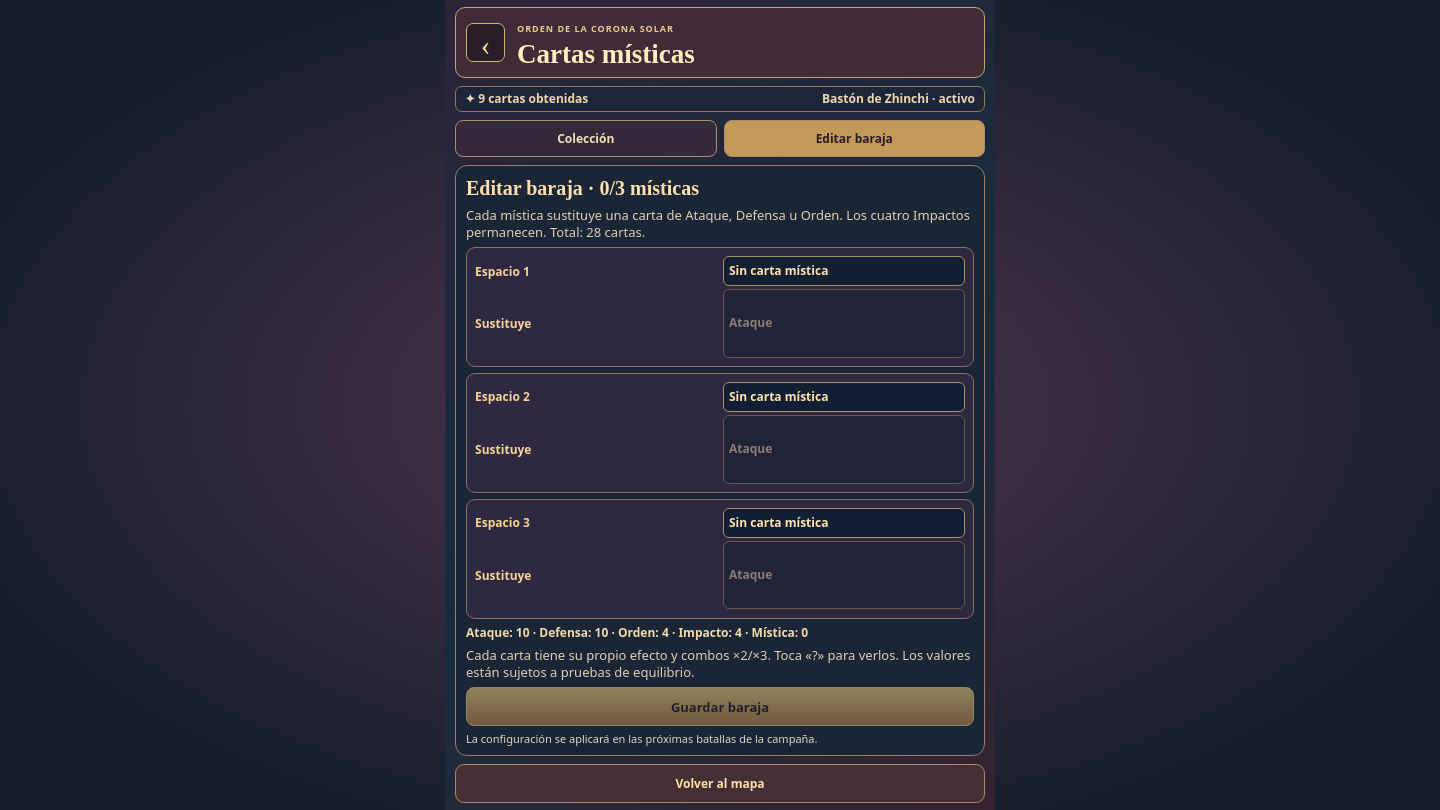
Test: el bastón desbloquea editor, limita tres espacios y guarda elecciones
Earlier steps of the test are not shown.
Expected: the heading "Editar baraja · 0/3 místicas" is shown, [466, 177, 699, 199]
Select "Marea de Hierro" in the dropdown labelled "Espacio 1" at (844, 271), box [723, 256, 965, 286]
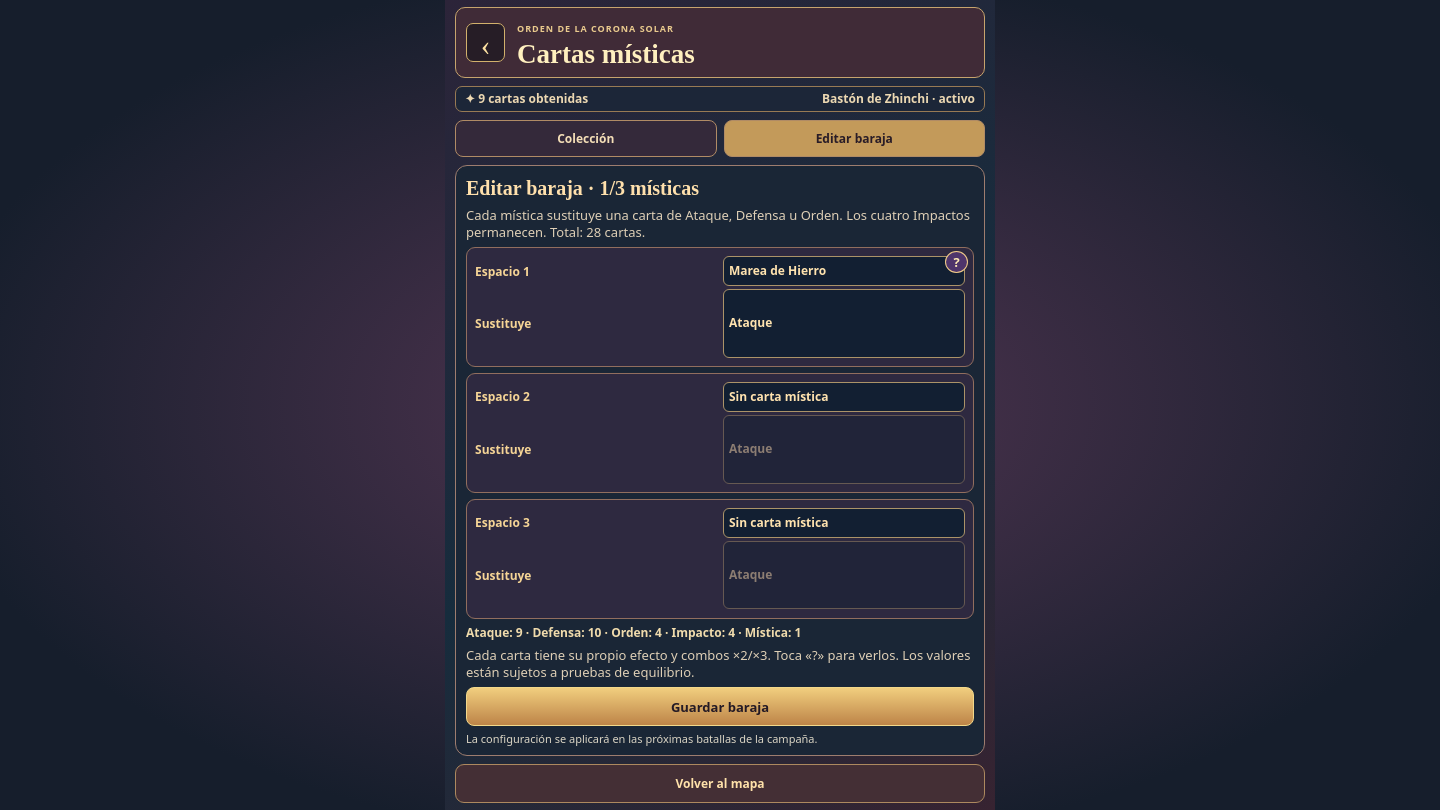
Click the button named "Ver efectos de Marea de Hierro" at (956, 262), box [945, 251, 968, 273]
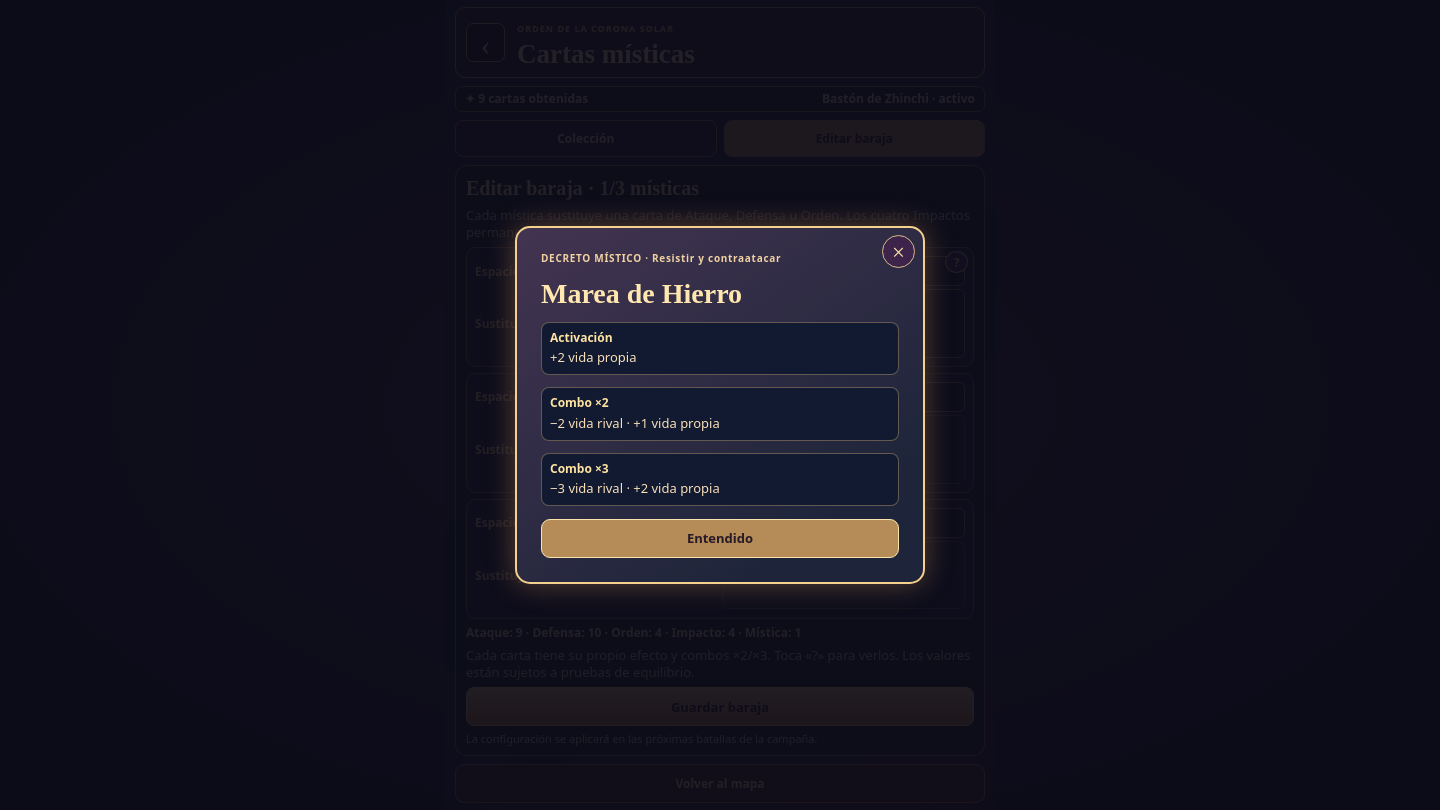
Result: the heading "Marea de Hierro" is shown at [541, 278, 742, 308]
Click the button "Entendido" at (720, 538), box [541, 519, 899, 558]
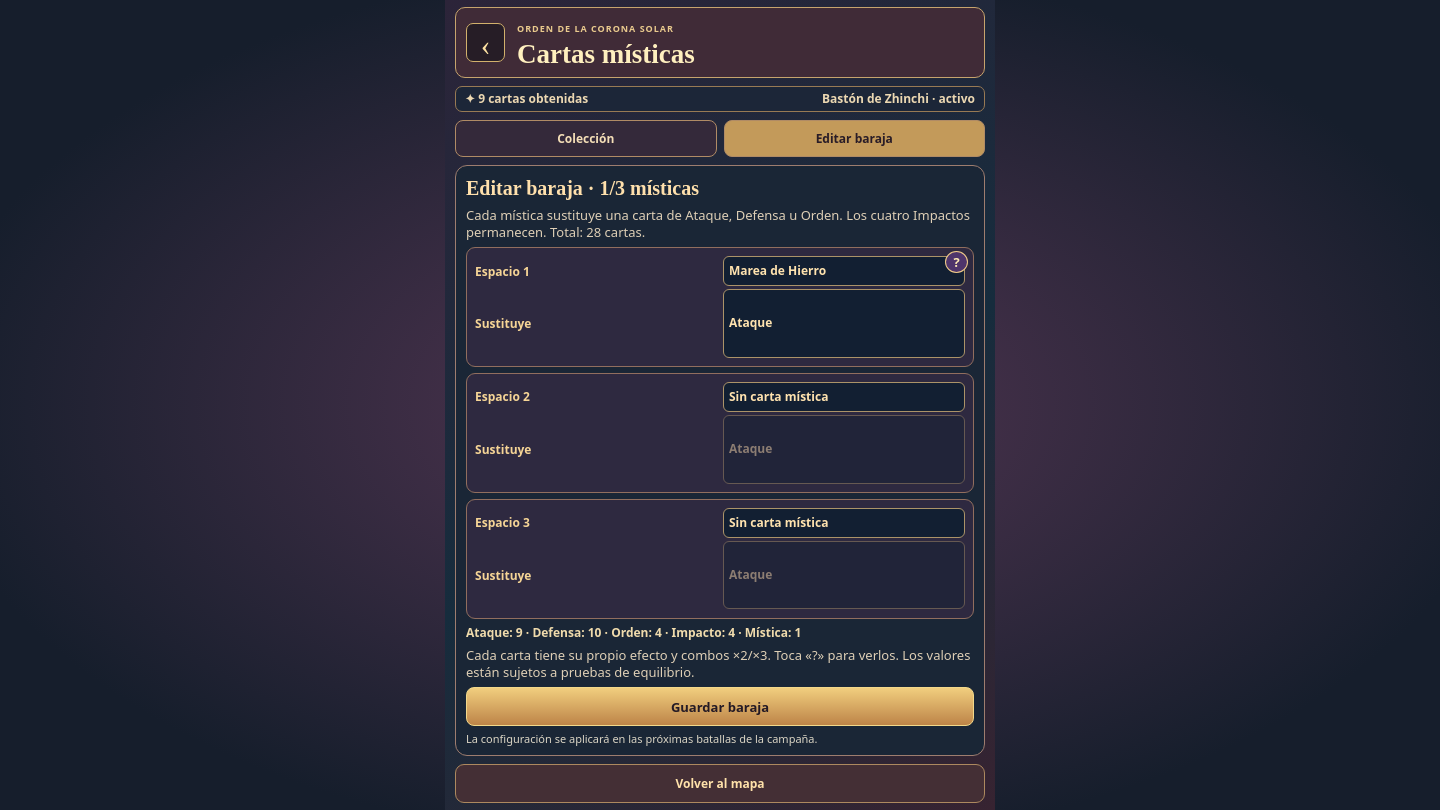
Select "Defensa" in the dropdown with id "mystic-replace-0" at (844, 324), box [723, 289, 965, 358]
Select "Carga Sangrante" in the dropdown labelled "Espacio 2" at (844, 397), box [723, 382, 965, 412]
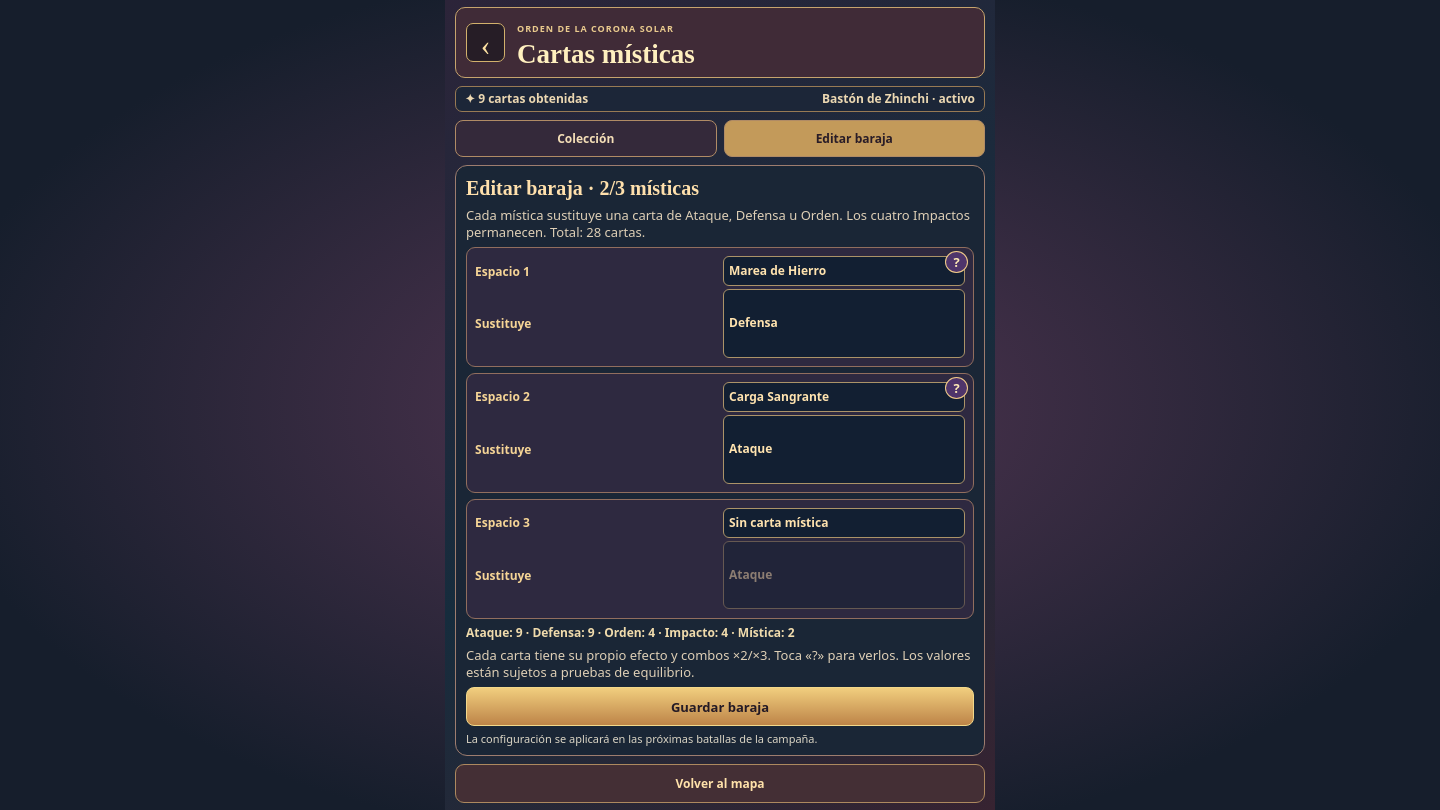
Select "Decreto del Legado" in the dropdown labelled "Espacio 3" at (844, 523), box [723, 508, 965, 538]
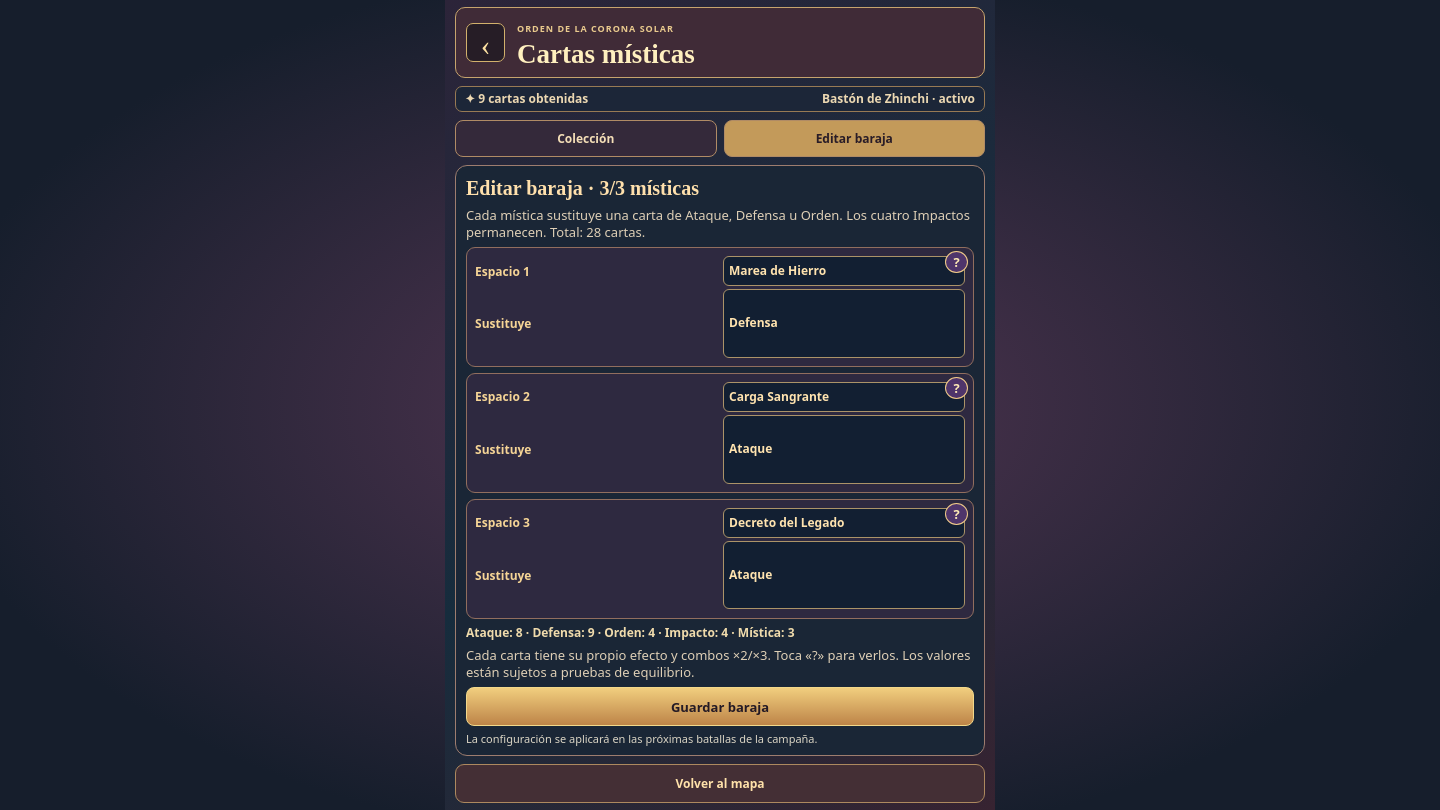
Result: the text "Ataque: 8 · Defensa: 9 · Orden: 4 · Impacto: 4 · Mística: 3" is shown at [466, 624, 794, 641]
Result: the heading "Editar baraja · 3/3 místicas" is shown at [466, 177, 699, 199]
Click the button "Guardar baraja" at (720, 707), box [466, 687, 974, 726]
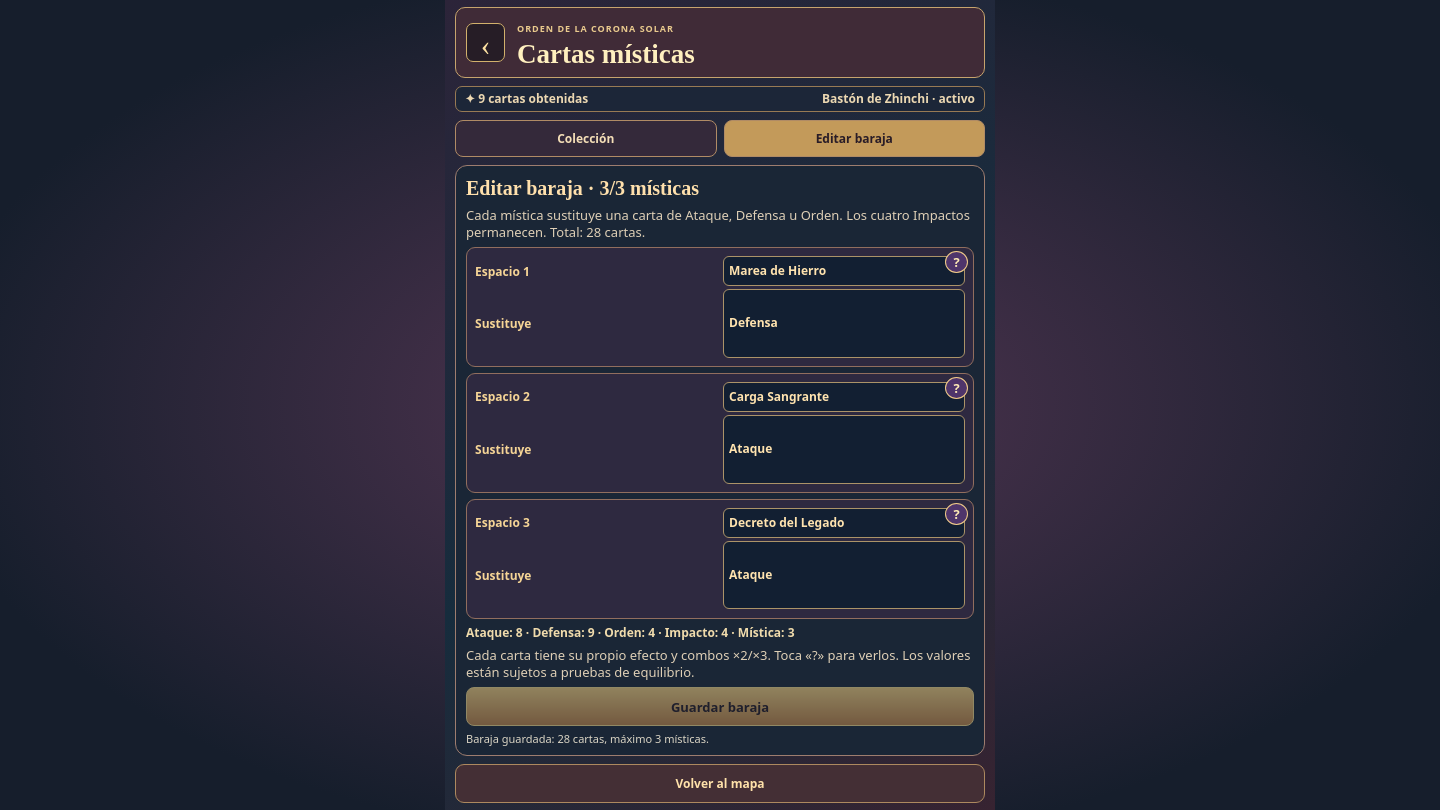
Result: the text "Baraja guardada: 28 cartas, máximo 3 místicas." is shown at [466, 731, 709, 746]
